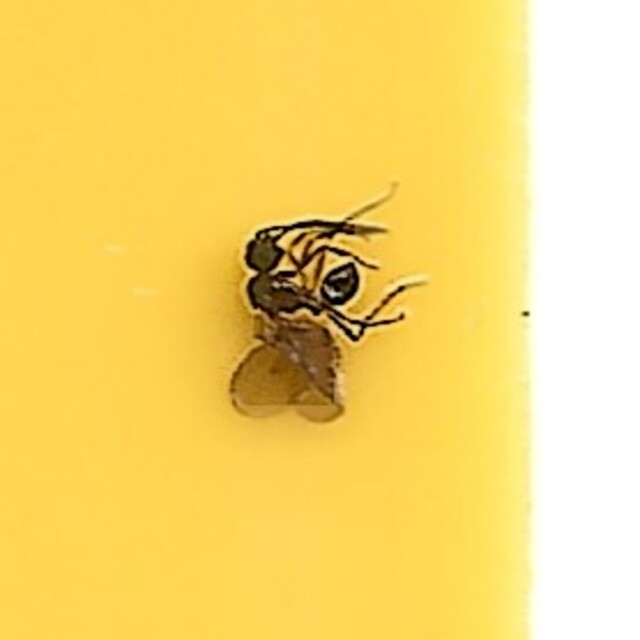Hymenoptera: (230, 213, 410, 427)
